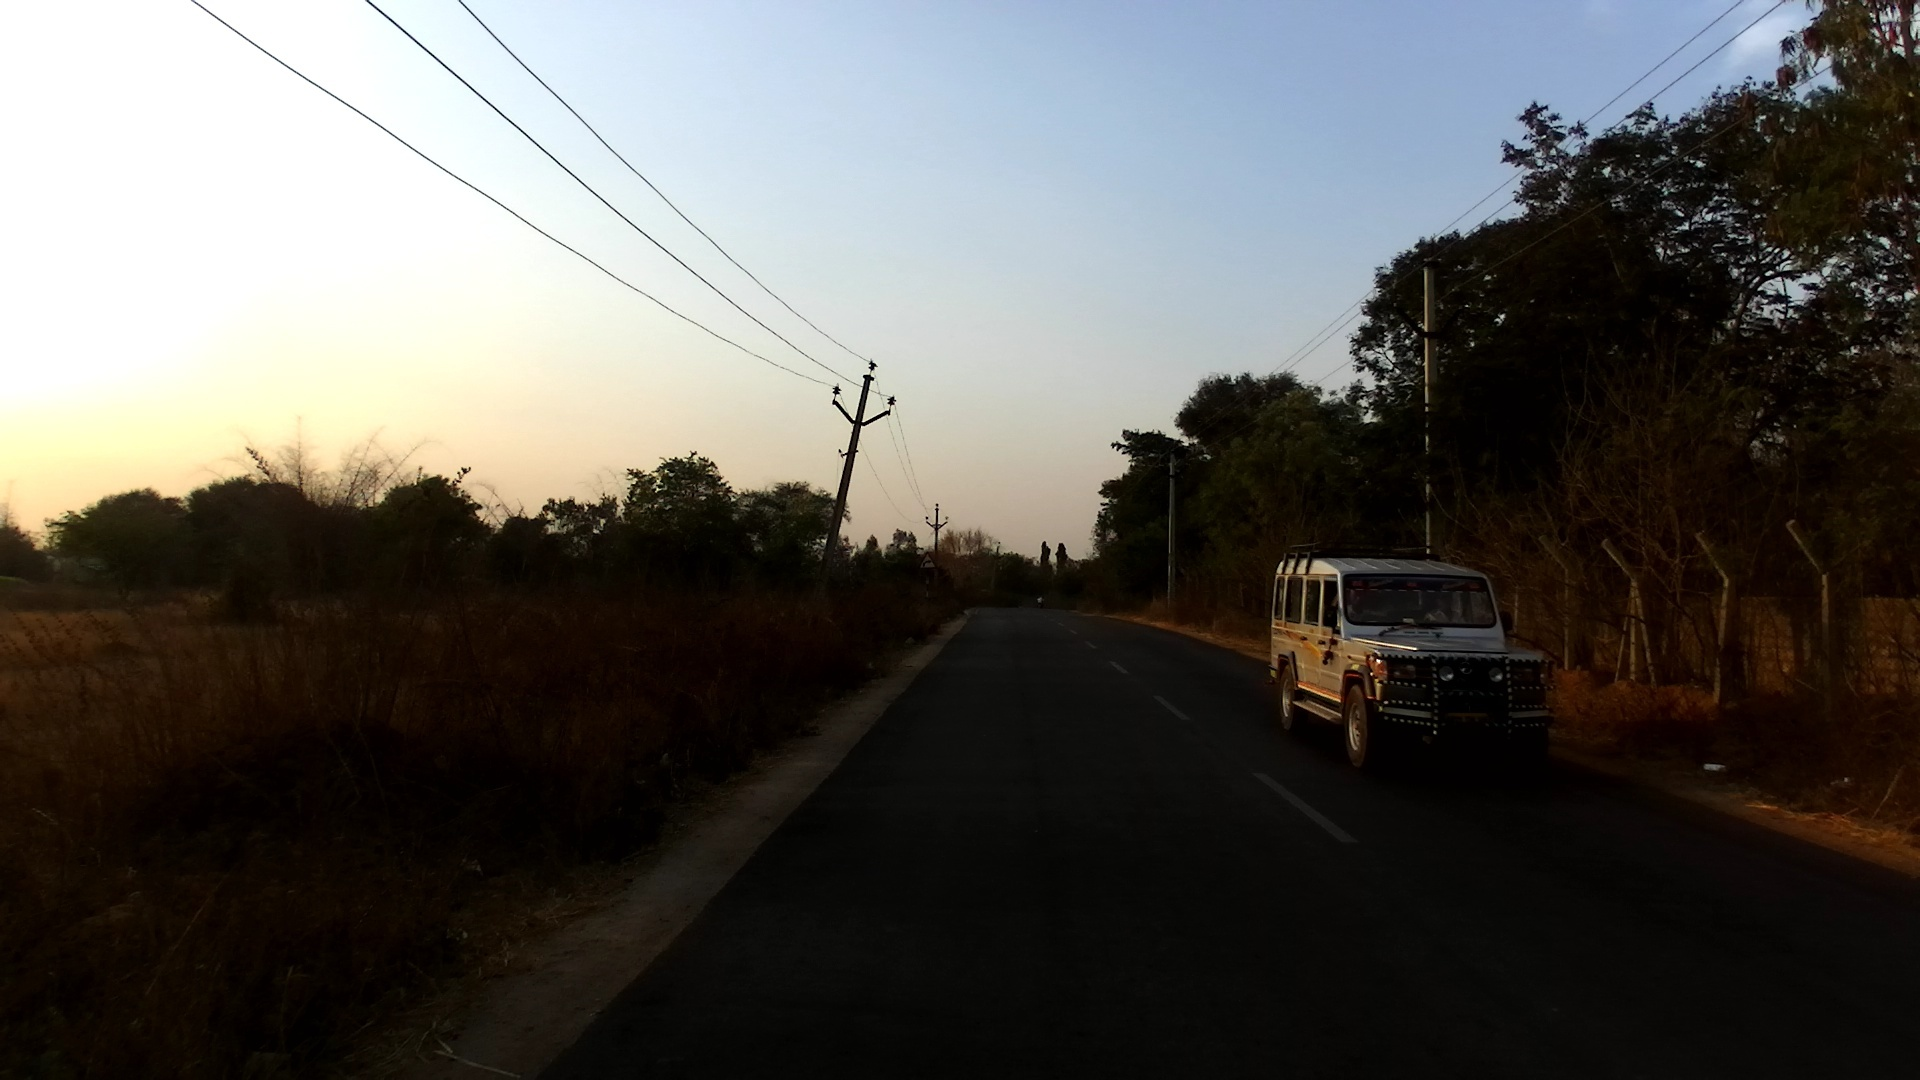car: (1269, 539, 1561, 775)
